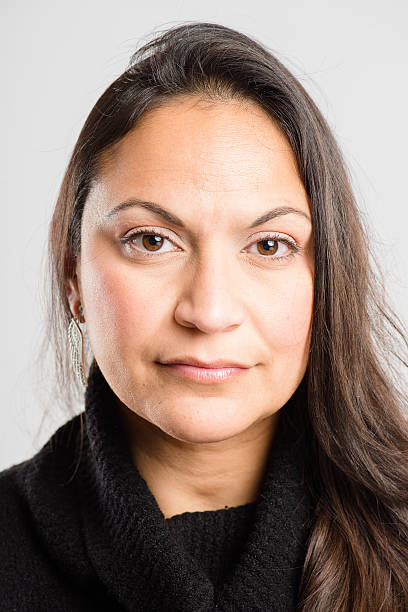face: (94, 143, 317, 444)
